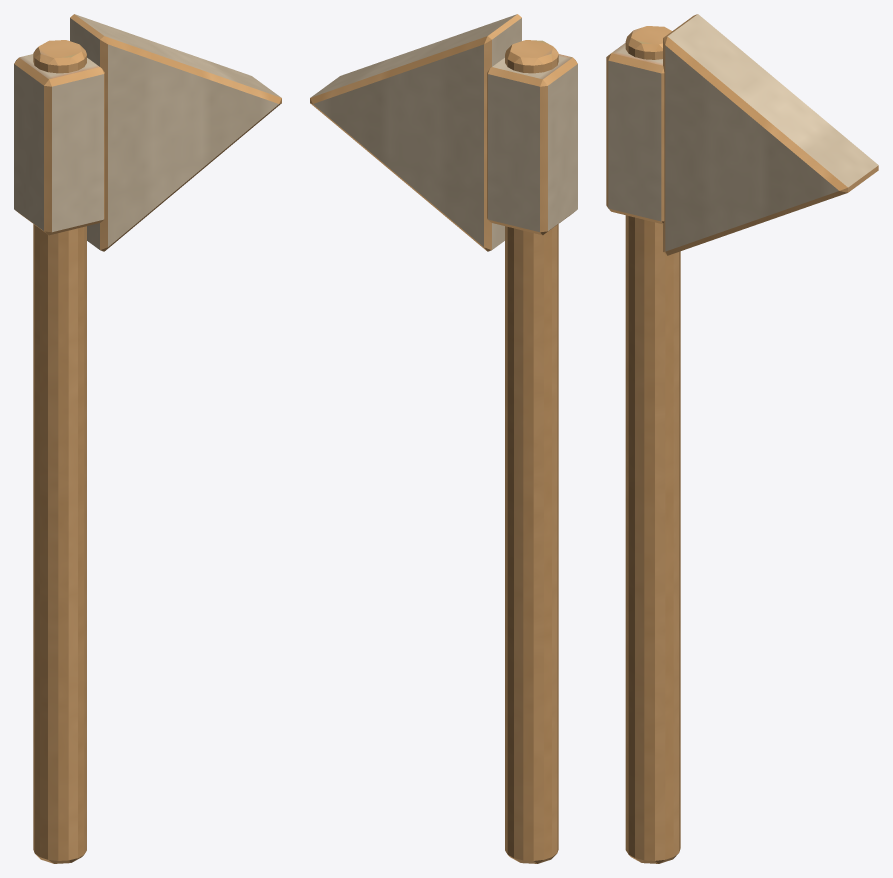
The model's file is sm_tool_axe_basic.glb.
3 renders of one model, left to right at view 1: azimuth 30°, elevation 25°; view 2: azimuth 150°, elevation 25°; view 3: azimuth 330°, elevation 25°, orthographic.
Visible parts, largest first — view 1: sm_tool_axe_basic; view 2: sm_tool_axe_basic; view 3: sm_tool_axe_basic.
Boxes of the visible parts, box(x1,y1,x2,y2) form: sm_tool_axe_basic: box(14, 14, 281, 863); sm_tool_axe_basic: box(310, 14, 577, 863); sm_tool_axe_basic: box(606, 14, 878, 863).
Size of the model in its own units: 0.1915 by 0.633 by 0.05.
1 material, 1 textured.
